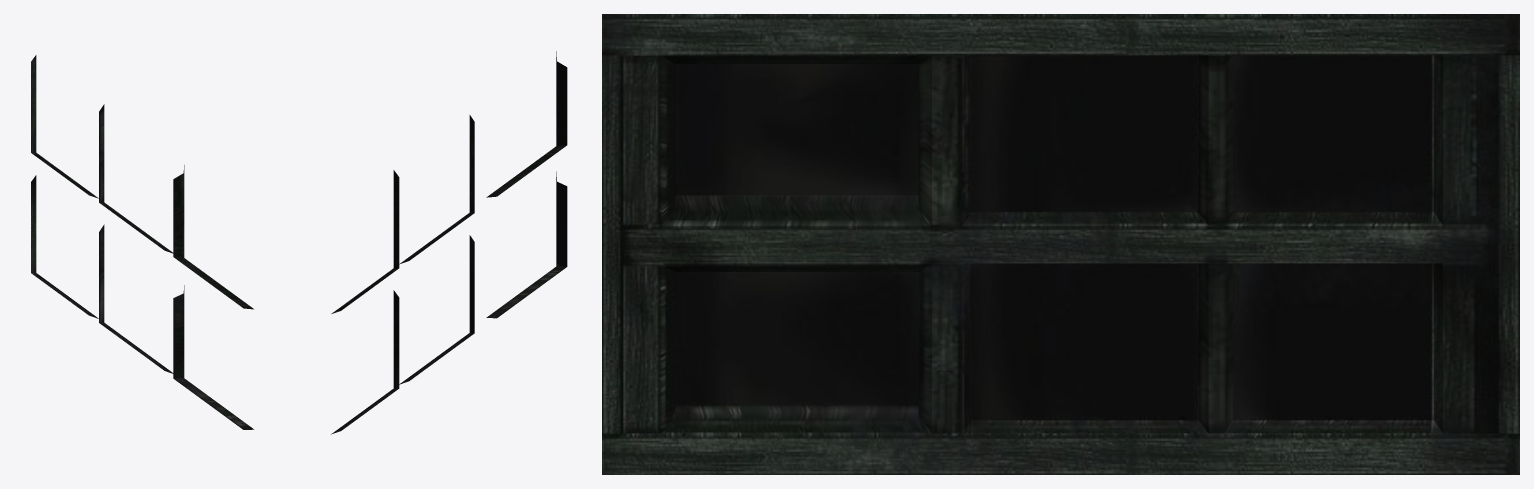
The model's file is window_black.glb.
The picture shows the model from 3 angles, left to right: view 1: azimuth 30°, elevation 25°; view 2: azimuth 150°, elevation 25°; view 3: azimuth 270°, elevation 25°; orthographic projection. The views are drawn at different scales.
Size of the model in its own units: 2.67 by 46 by 83.
1 material, 1 textured.
